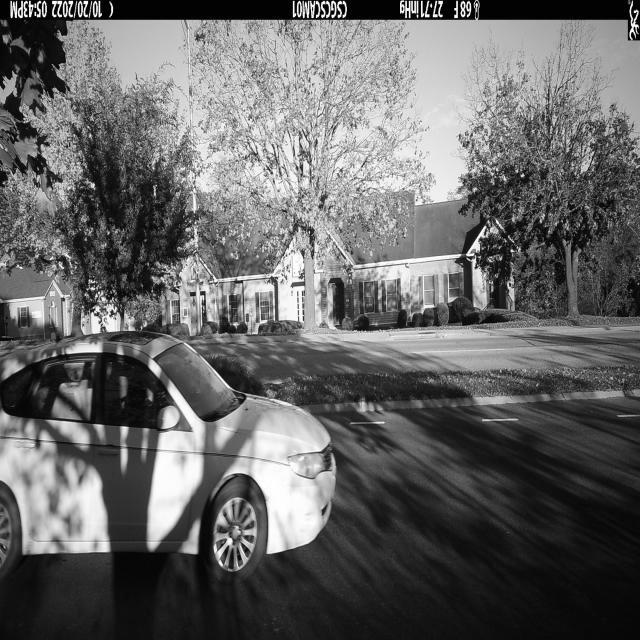Hatchback: (0, 333, 336, 584)
